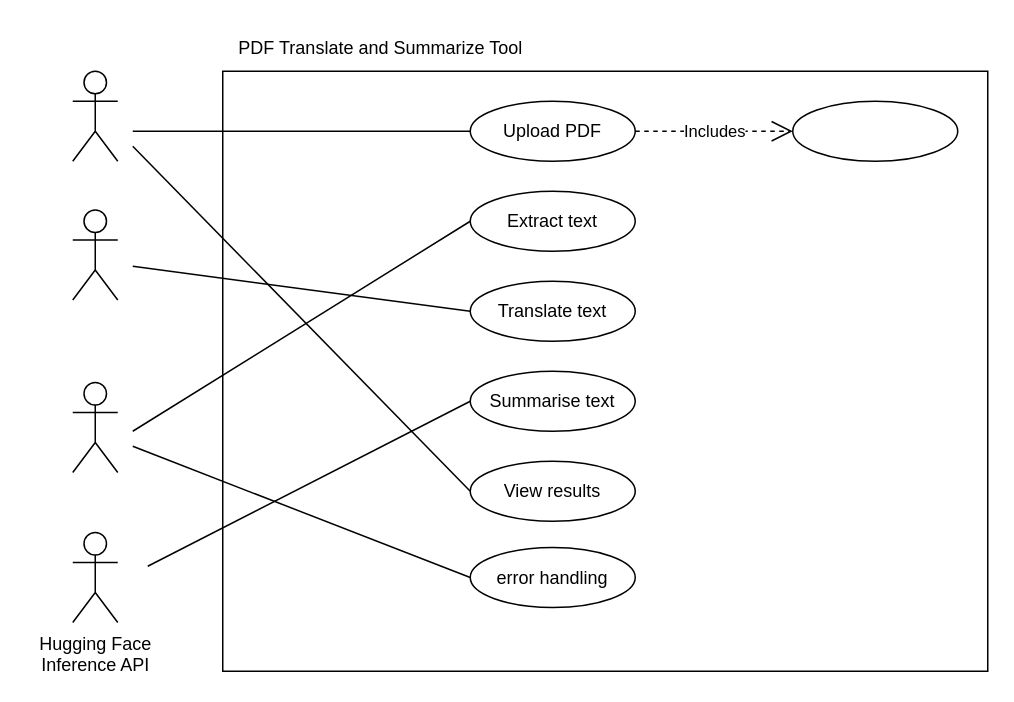
Some shapes in this 1014 by 702 pixel diagram are drawn without their labels. Here are the shapes that lost their labels. From the top down, the box of each, then its label:
(71, 70, 118, 161): User
(791, 100, 958, 161): select language
(71, 208, 118, 300): DeepL API & GoogleTranslator
(71, 381, 118, 472): Flask Backend
